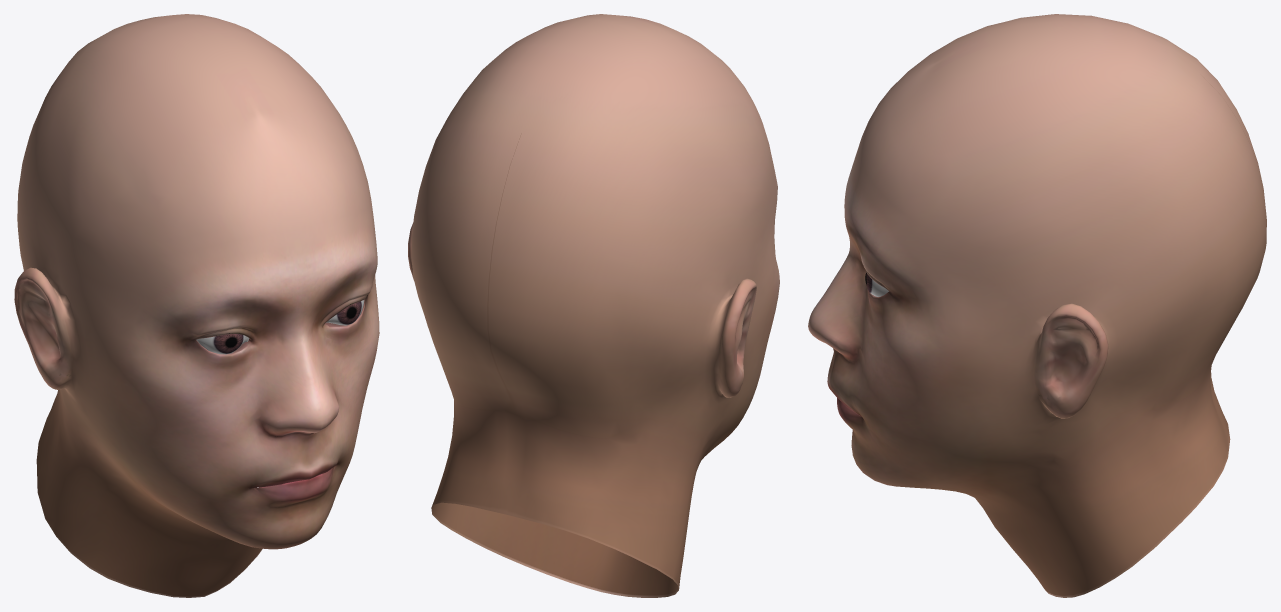
3 renders of one model, left to right at view 1: azimuth 30°, elevation 25°; view 2: azimuth 150°, elevation 25°; view 3: azimuth 270°, elevation 25°, orthographic.
Visible parts, largest first — view 1: Object_2, Object_3; view 2: Object_2; view 3: Object_2.
Boxes of the visible parts, x1,y1,x2,y2 form: Object_2: (14, 14, 379, 597); Object_3: (196, 300, 364, 354); Object_2: (408, 14, 779, 597); Object_2: (808, 14, 1266, 597).
Size of the model in its own units: 365 by 595 by 445.
Materials: 2 (2 with a texture image).
